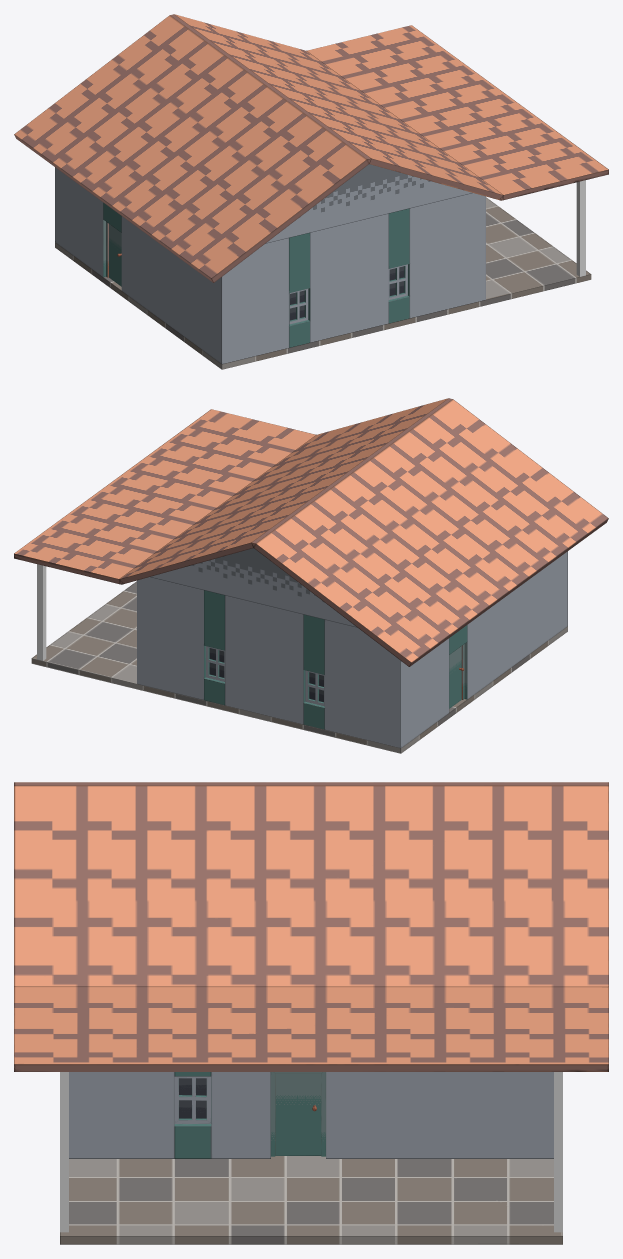
Rendered from rumah4textured.fbx.
The picture shows the model from 3 angles, top to bottom: view 1: azimuth 30°, elevation 25°; view 2: azimuth 150°, elevation 25°; view 3: azimuth 270°, elevation 25°; orthographic projection. The views are drawn at different scales.
Parts seen in each view (by area): view 1: atap4.001, tembok4.001, lantai4.001, pintubelakang.001, tiang.003, jendelakiri1.001, jendelakiri2.001; view 2: atap4.001, tembok4.001, lantai4.001, pintubelakang.001, tiang.002, jendelakanan2.001, jendelakanan1.001; view 3: atap4.001, lantai4.001, tembok4.001, pintudepan.001, jendeladepan.001, tiang.002, tiang.003.
Boxes of the visible parts, x1,y1,x2,y2 form: atap4.001: (14,14,608,282); tembok4.001: (55,164,485,364); lantai4.001: (55,197,591,369); pintubelakang.001: (103,220,121,286); tiang.003: (576,180,585,276); jendelakiri1.001: (289,288,310,326); jendelakiri2.001: (388,264,409,301); atap4.001: (14,398,608,666); tembok4.001: (137,548,567,748); lantai4.001: (31,581,567,753); pintubelakang.001: (449,642,467,708); tiang.002: (37,564,46,660); jendelakanan2.001: (303,670,324,707); jendelakanan1.001: (204,645,224,683); atap4.001: (14,782,608,1071); lantai4.001: (60,1156,562,1244); tembok4.001: (69,1072,553,1158); pintudepan.001: (271,1072,325,1156); jendeladepan.001: (174,1076,211,1126); tiang.002: (554,1072,562,1232); tiang.003: (60,1072,68,1232).
Bounding box in the file's own units: 1510 × 688 × 1298.
6 materials, 5 textured.
